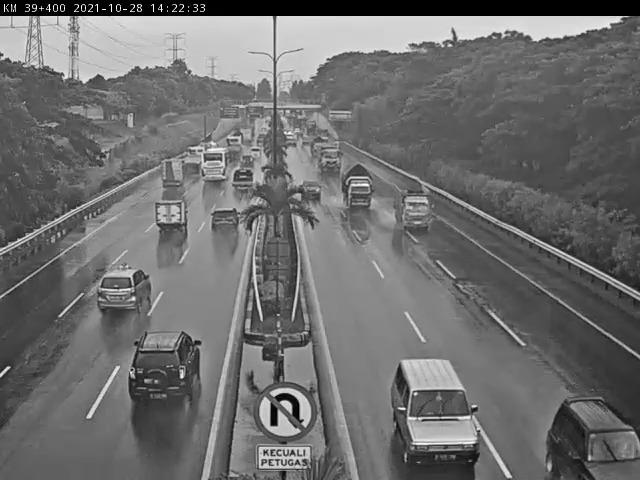big bus: (200, 144, 242, 188)
big truck: (315, 142, 342, 172), (213, 138, 236, 167), (182, 145, 204, 174)
car: (385, 356, 480, 468), (539, 393, 640, 480), (127, 328, 203, 406), (94, 259, 159, 316), (208, 207, 239, 240), (298, 175, 322, 202), (228, 171, 250, 193), (243, 154, 258, 170), (251, 139, 264, 154)
small truck: (388, 182, 438, 233), (339, 160, 375, 210), (148, 202, 188, 239), (157, 159, 186, 191), (230, 128, 251, 153)
